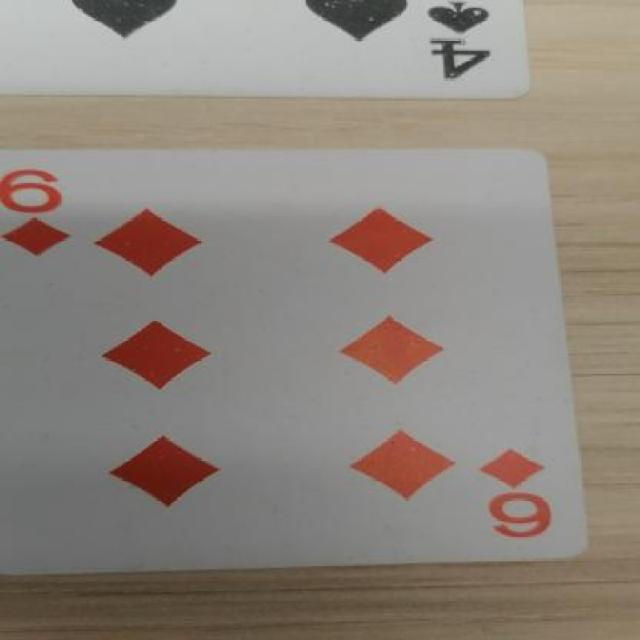4S: (436, 2, 512, 89)
6D: (460, 440, 578, 551), (0, 147, 95, 264)
